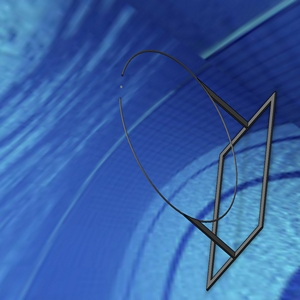circle: (113, 45, 277, 287)
